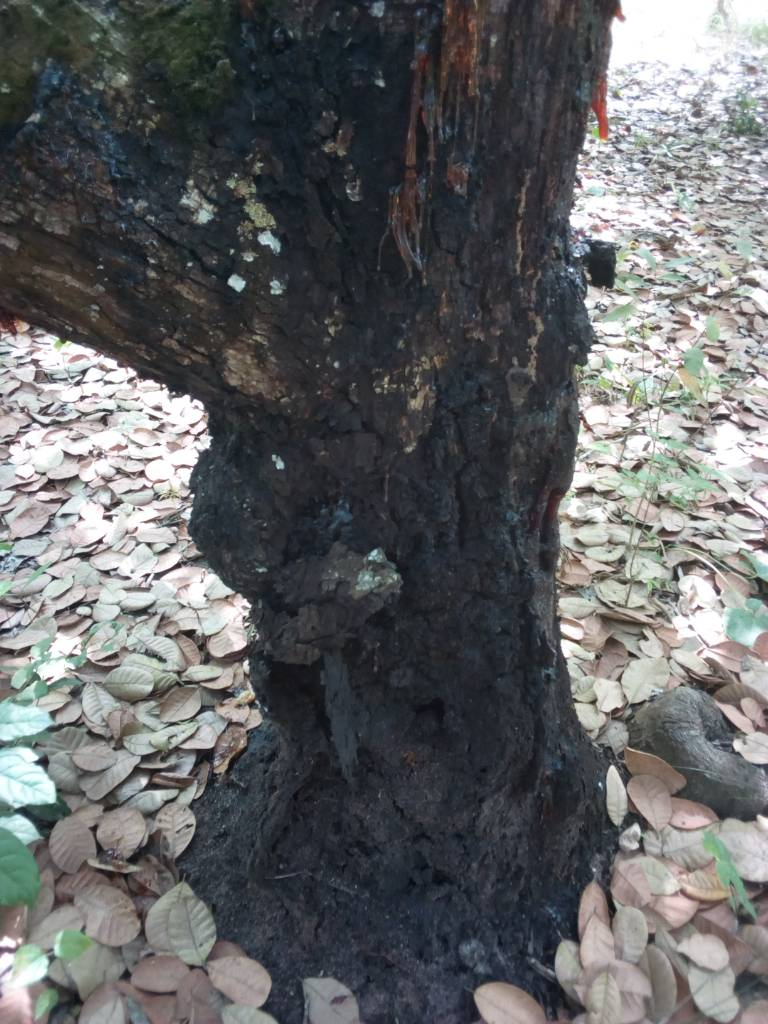Gommose: (246, 417, 566, 949), (271, 7, 596, 335), (30, 49, 265, 353)
